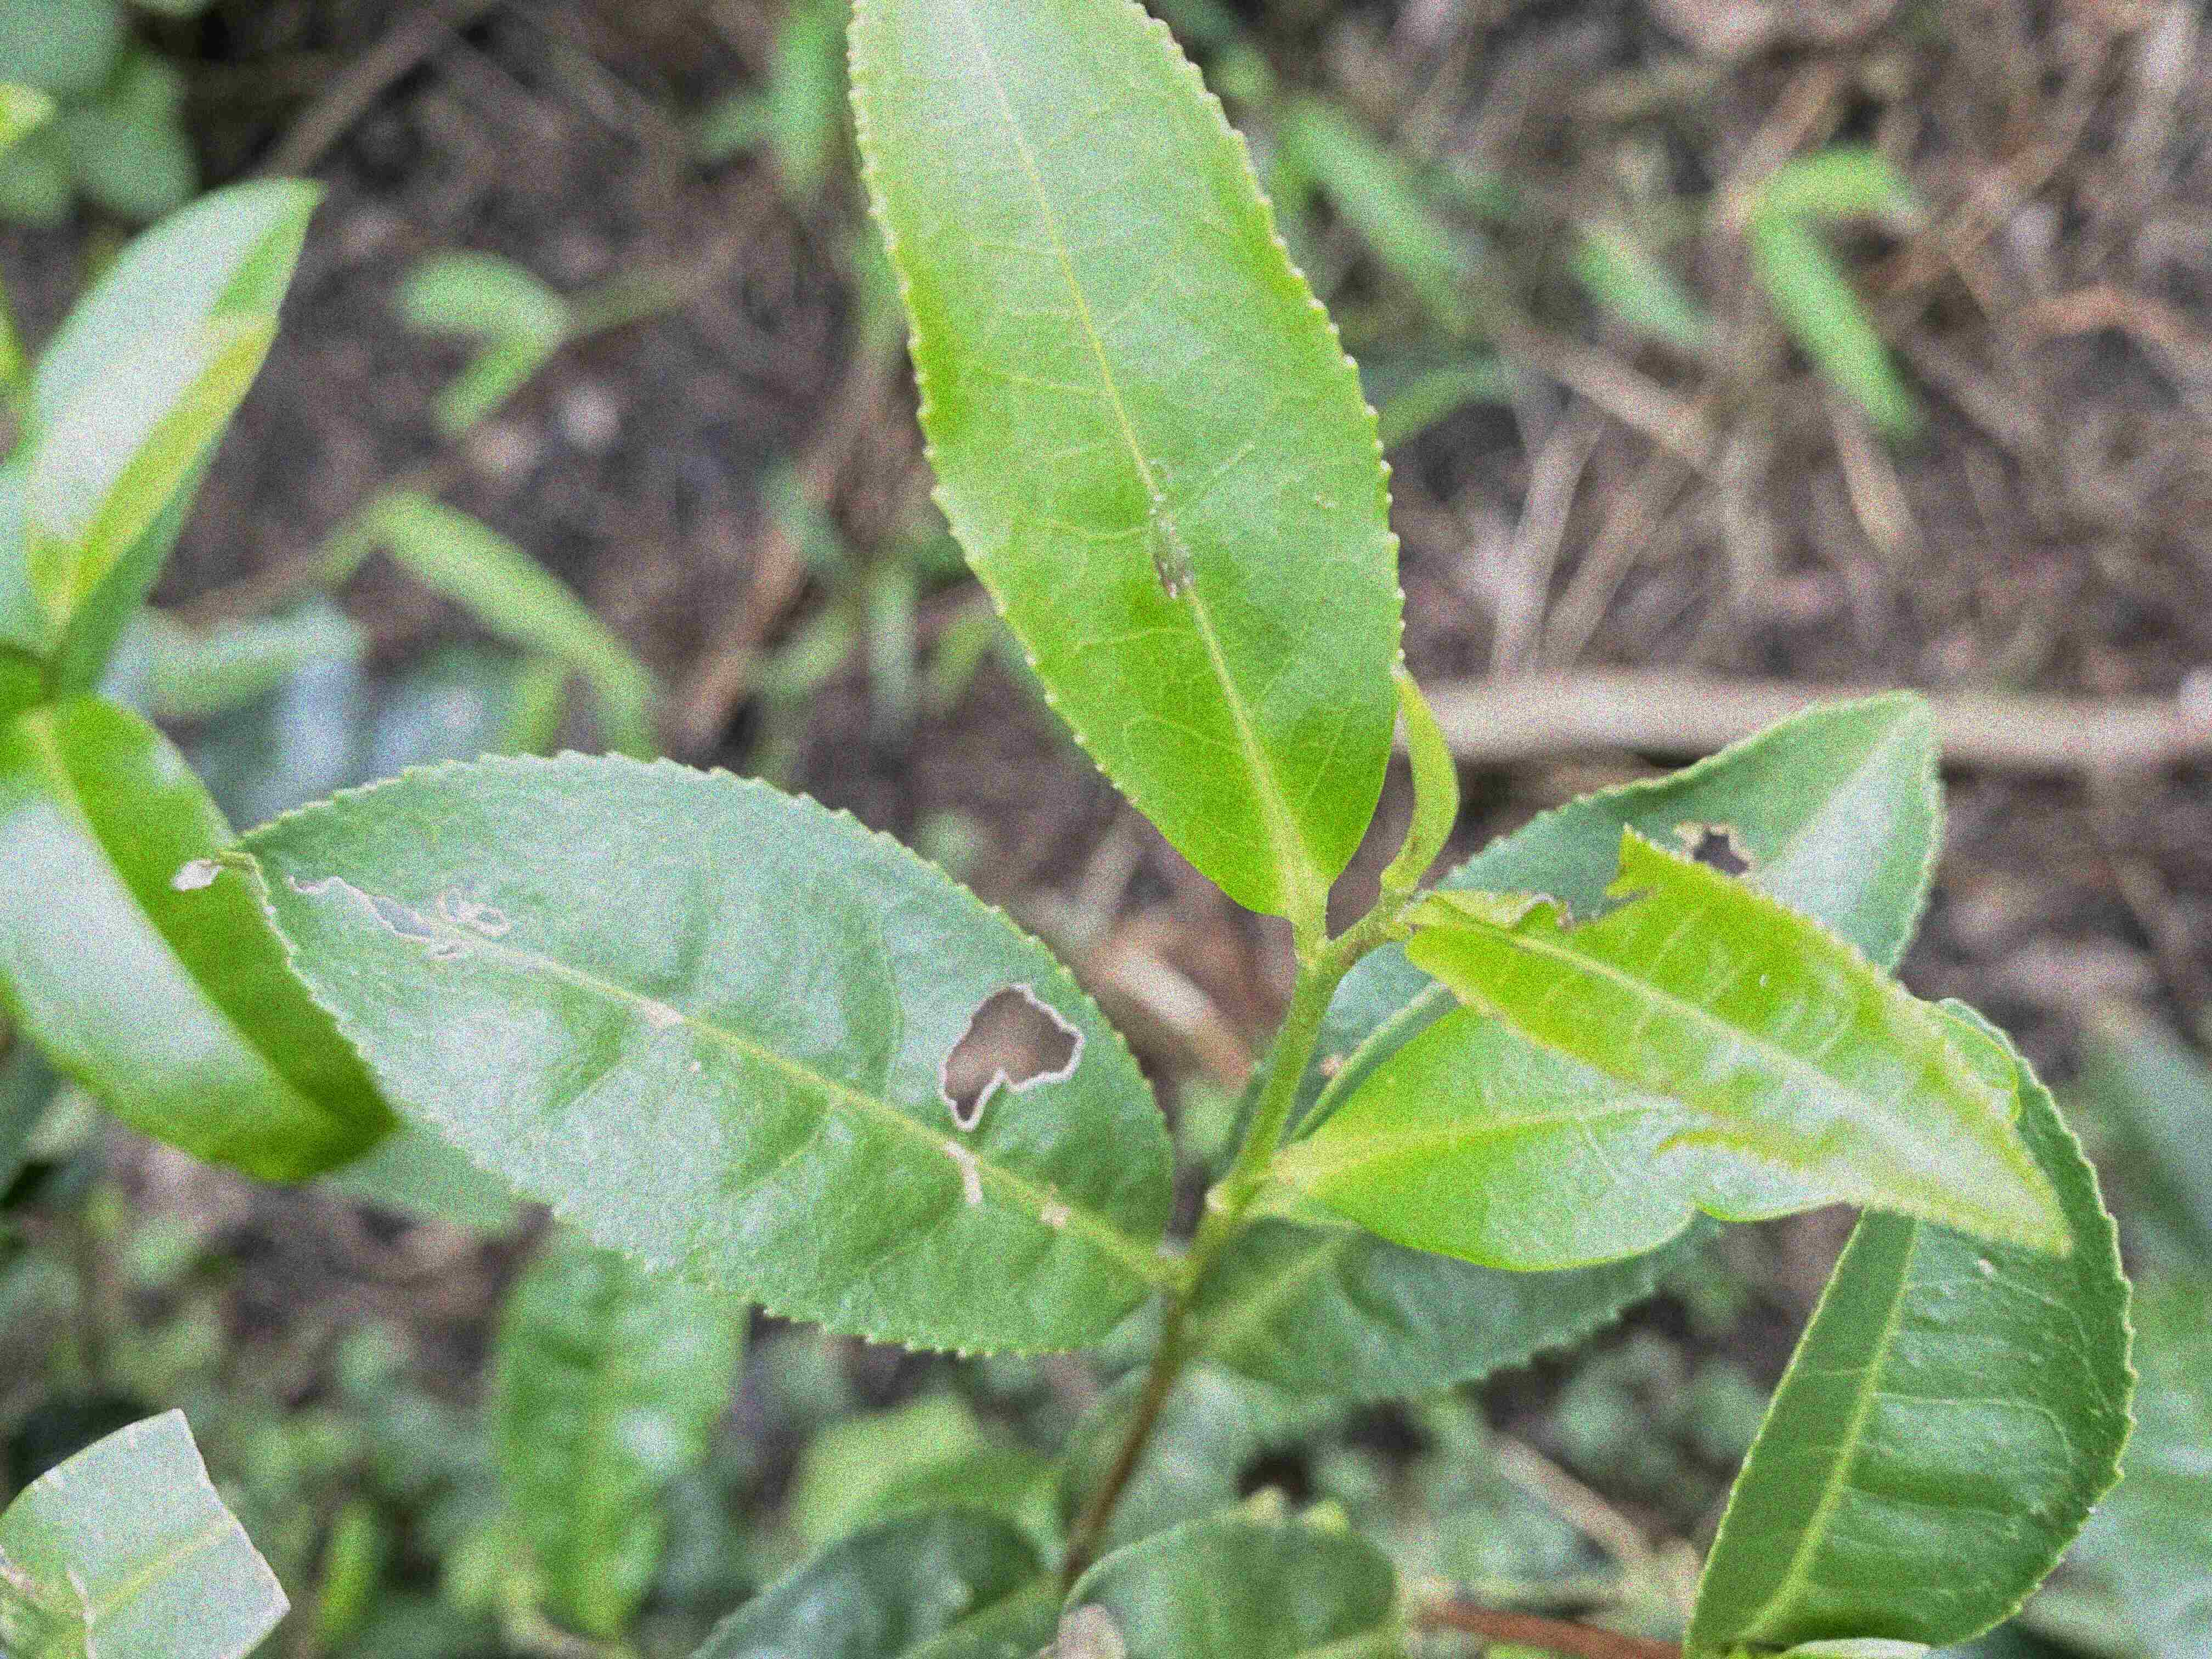chihuo_high: (209, 753, 1181, 1361), (1406, 816, 2069, 1256)
healthy: (1684, 1000, 2141, 1654)
tanju_low: (836, 2, 1413, 917)
